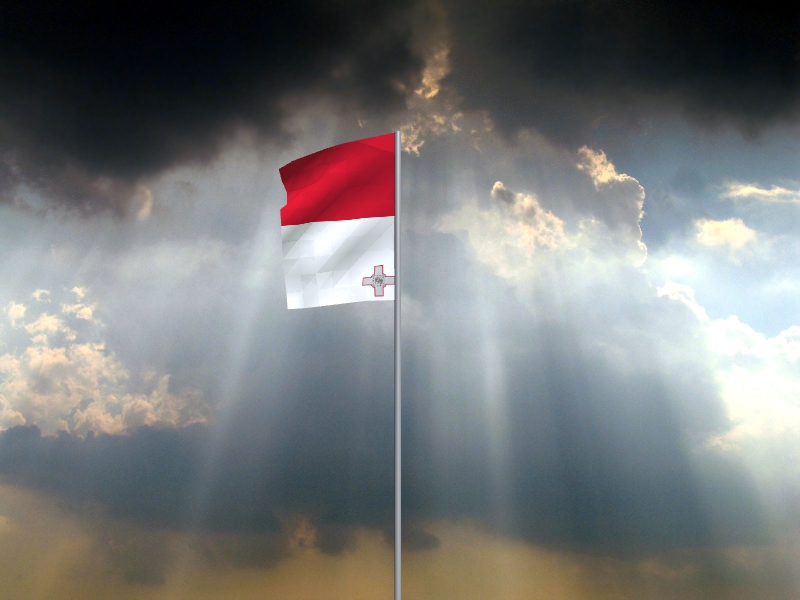mt: (279, 133, 396, 311)
